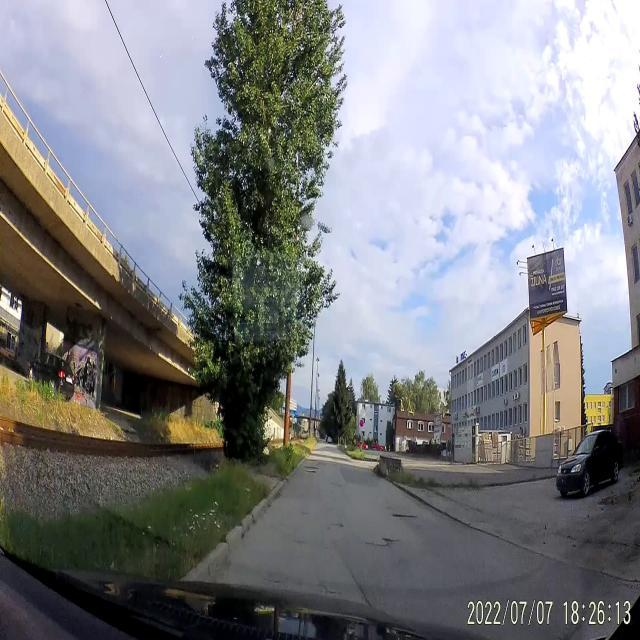Pothole: (364, 527, 403, 556), (389, 505, 422, 525), (328, 518, 347, 540), (304, 464, 320, 475)
